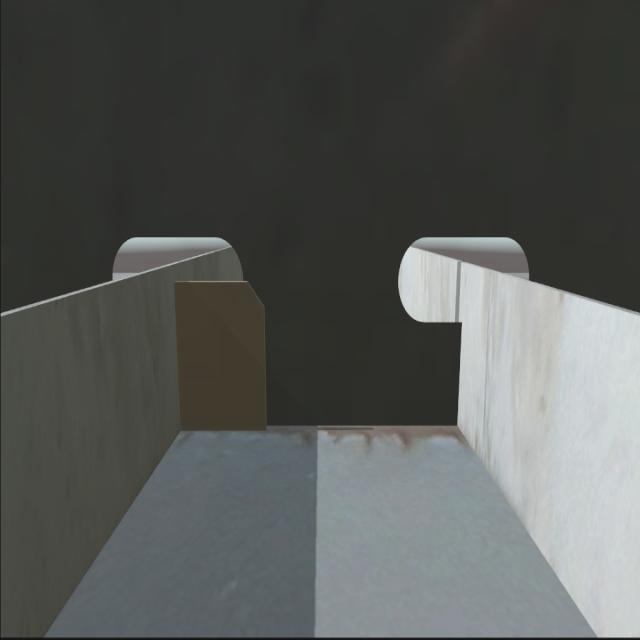fillet_yong_jeop_jang: (168, 415, 468, 436)
longi_yong_jeop_jang: (170, 280, 190, 436), (452, 316, 465, 431)
plate_CP03: (175, 284, 272, 434)
